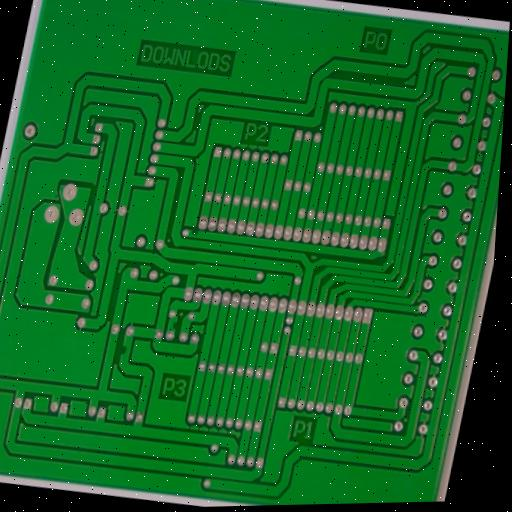mouse_bite: (118, 342, 133, 359), (186, 227, 203, 241), (170, 318, 180, 333)
